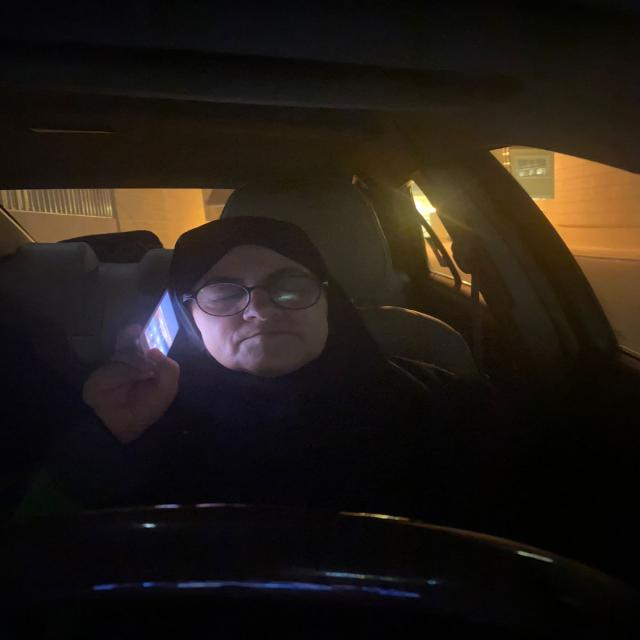mobile: (146, 286, 187, 374)
person: (189, 234, 329, 372)
